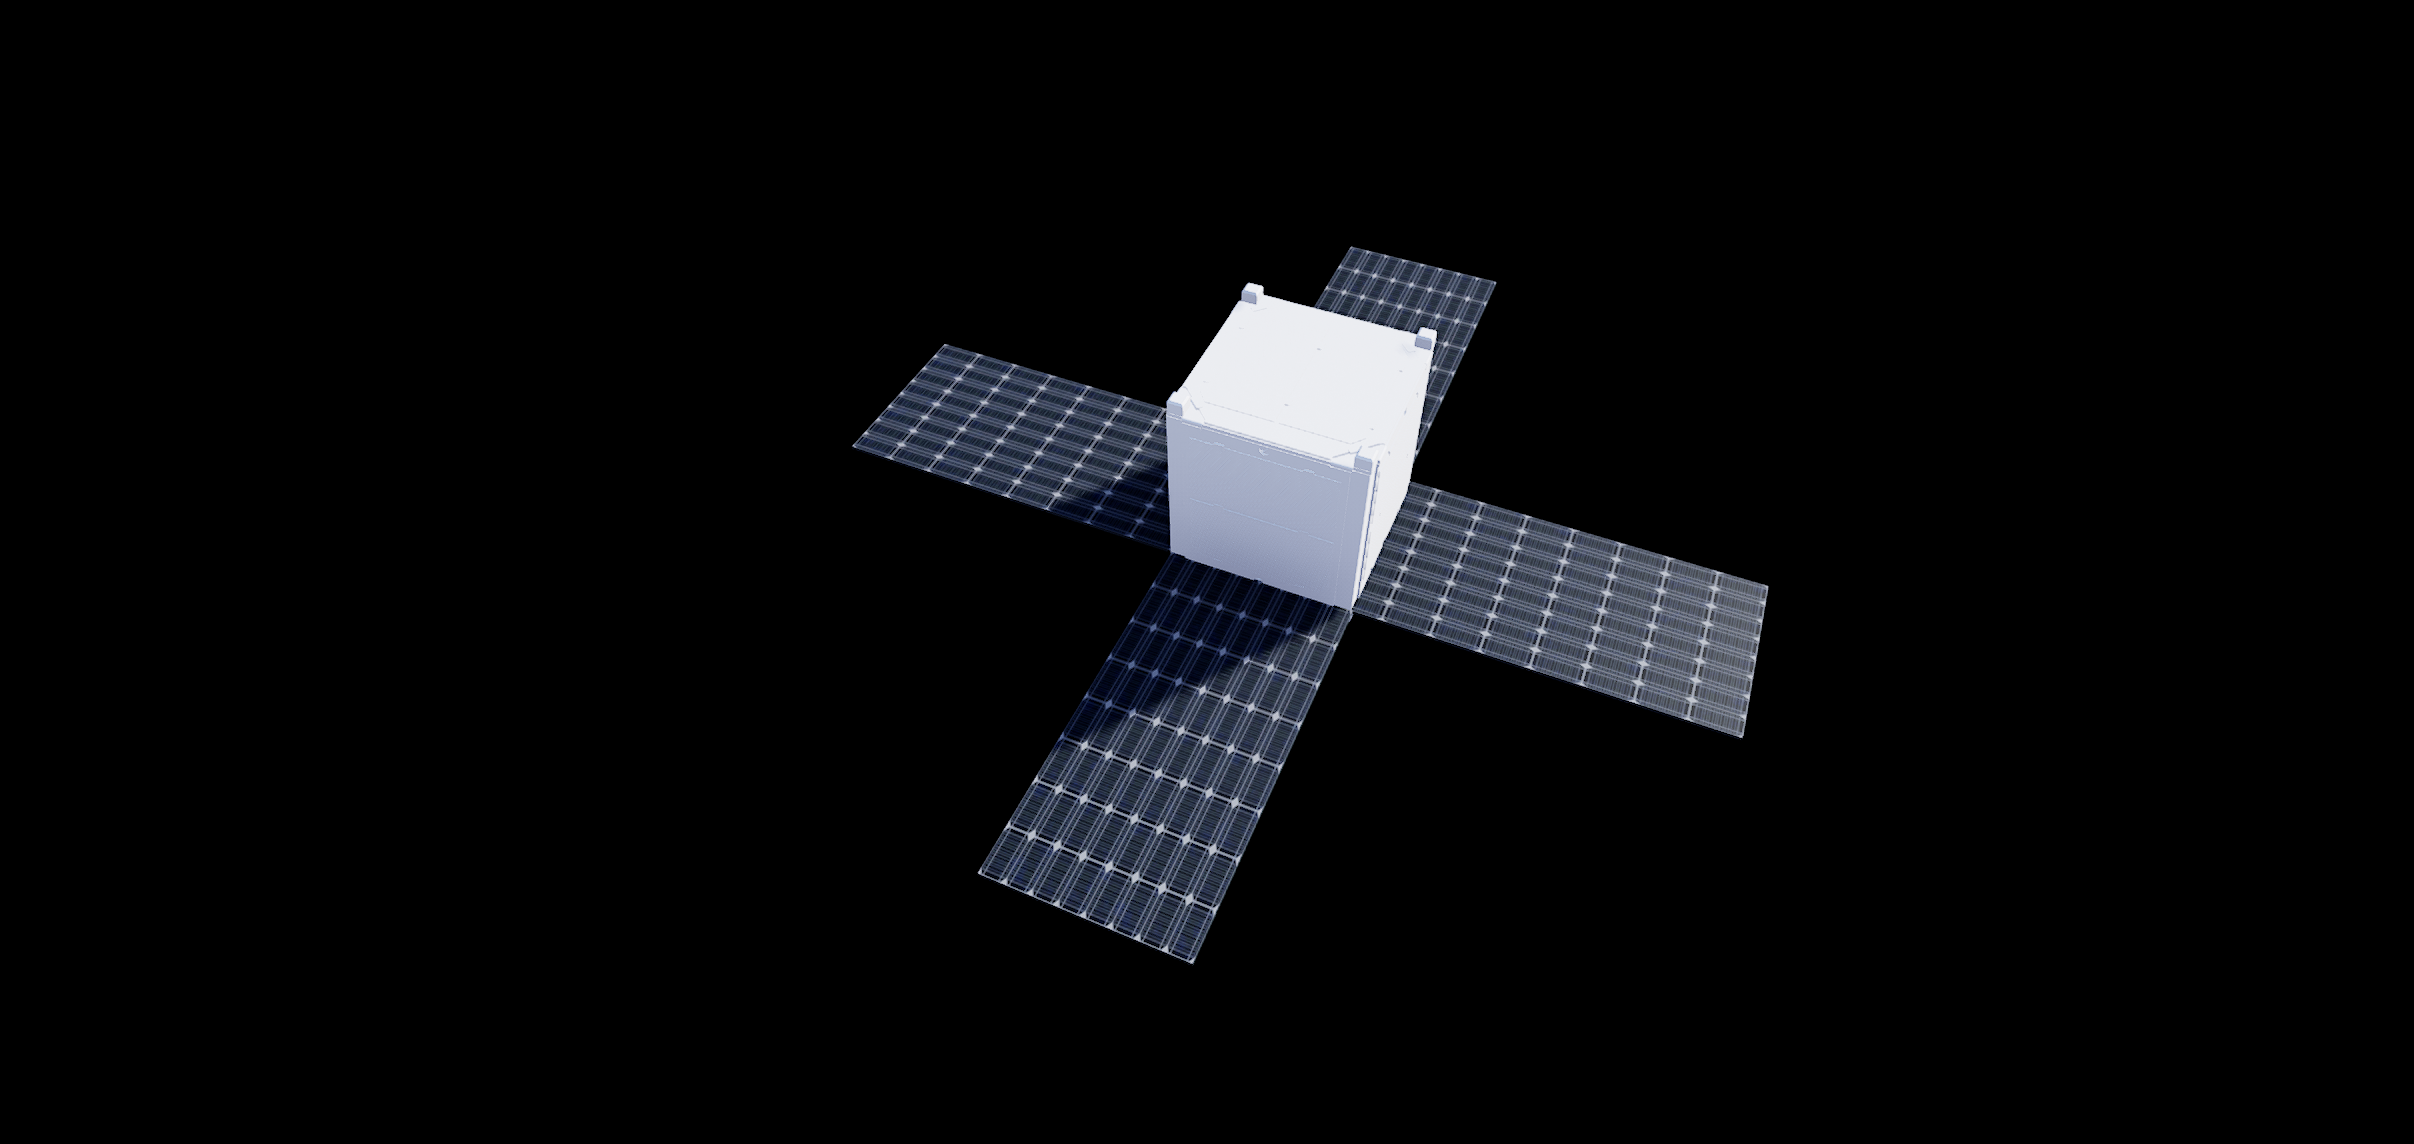satellite: (704, 196, 1806, 1005)
